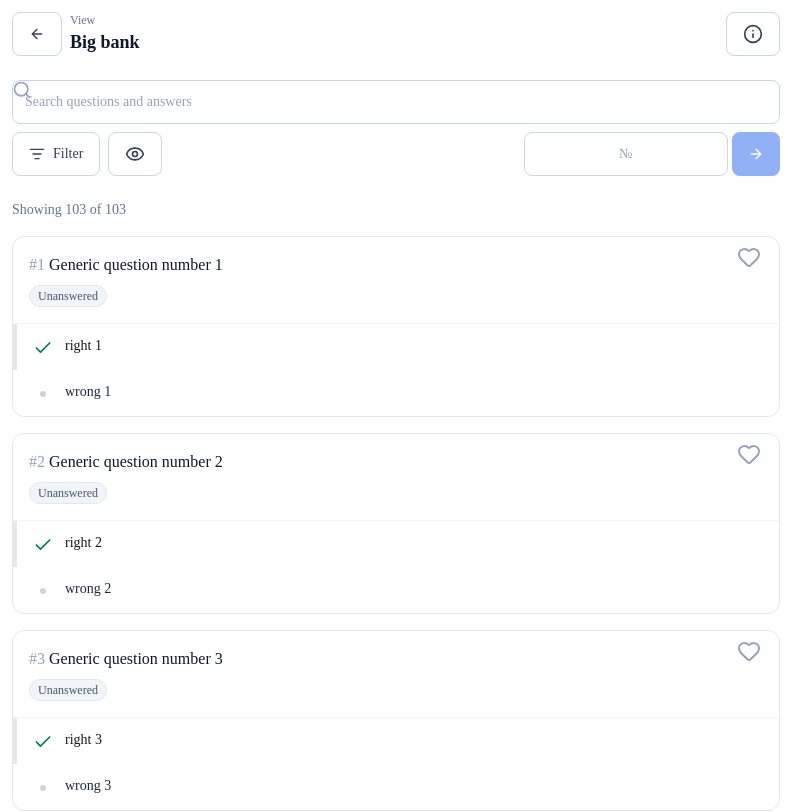
search › has a clear button
Type "paris" into the search field at (396, 102), box [12,80,780,124]
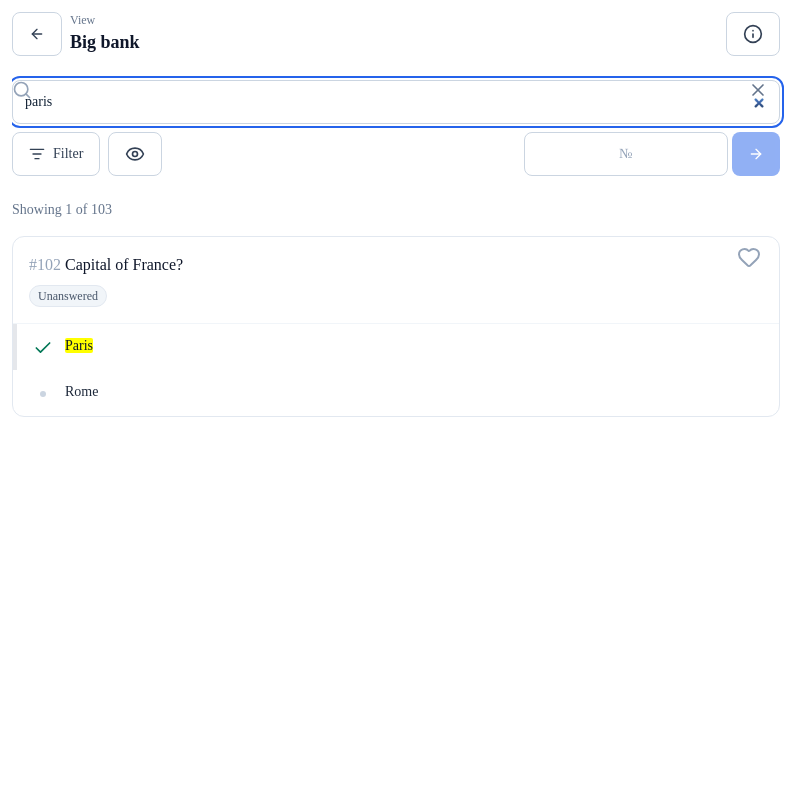
Click the button named "Clear search" at (758, 90), box [736,80,780,100]
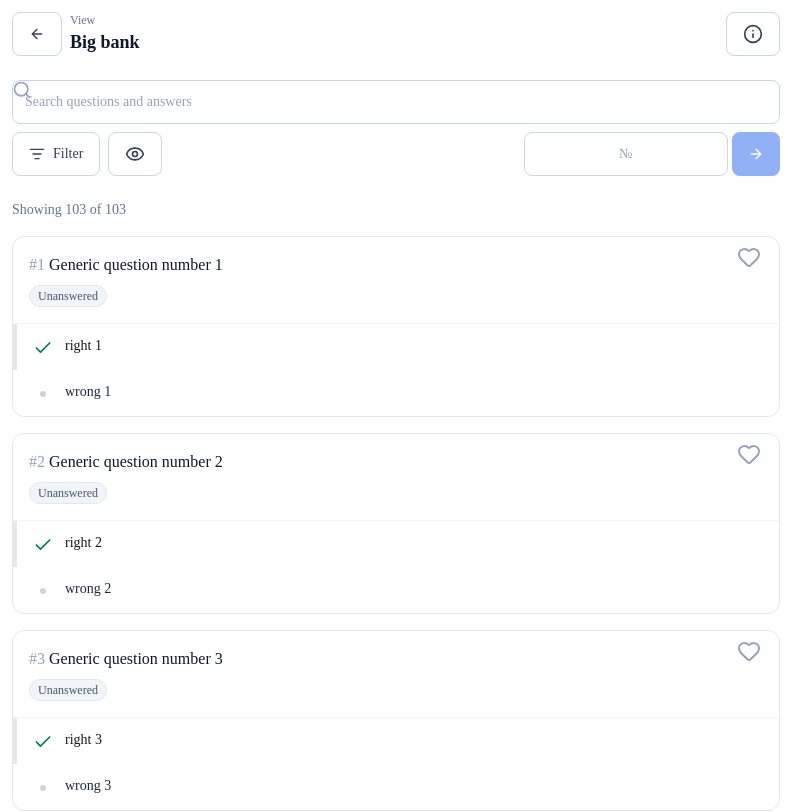
Expected: the search field is empty, [12,80,780,124]
